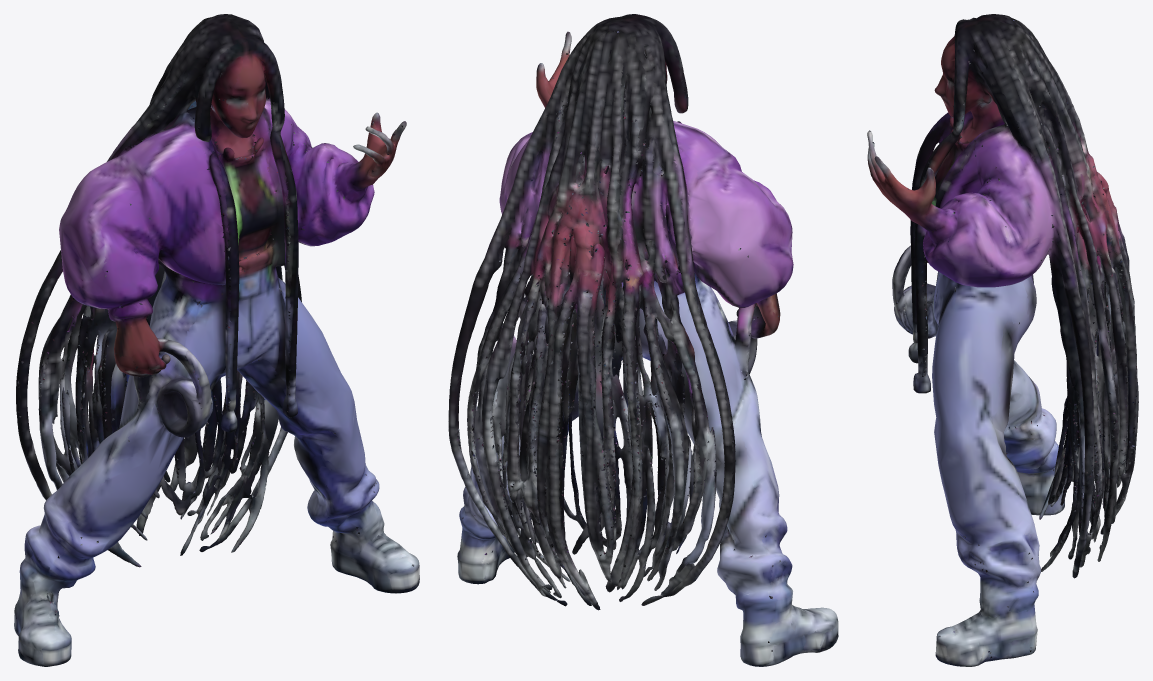
Rendered from neon-ultra.glb.
3 views of the same model, side by side, from view 1: azimuth 30°, elevation 25°; view 2: azimuth 150°, elevation 25°; view 3: azimuth 270°, elevation 25° (orthographic). The views are drawn at different scales.
Visible parts, largest first — view 1: Mesh_001; view 2: Mesh_001; view 3: Mesh_001.
Part boxes in pixels (x1,y1,x2,y2): Mesh_001: (14,14,419,666); Mesh_001: (448,14,838,666); Mesh_001: (867,14,1138,666).
Bounding box in the file's own units: 1.28 × 1.9 × 0.8222.
Materials: 1 (1 with a texture image).
